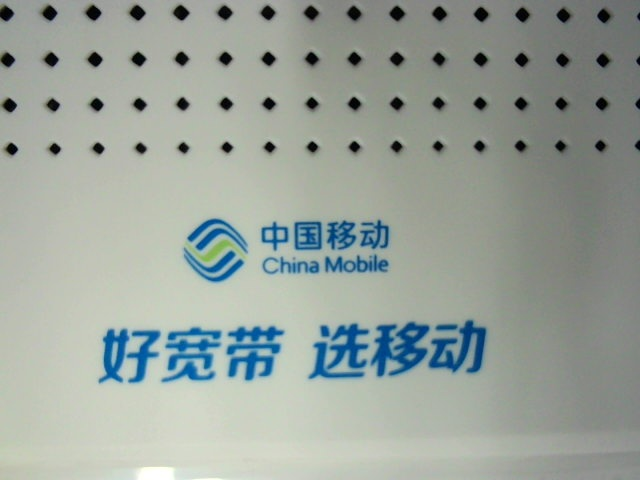AA_ChinaMobile: (90, 211, 499, 388)
